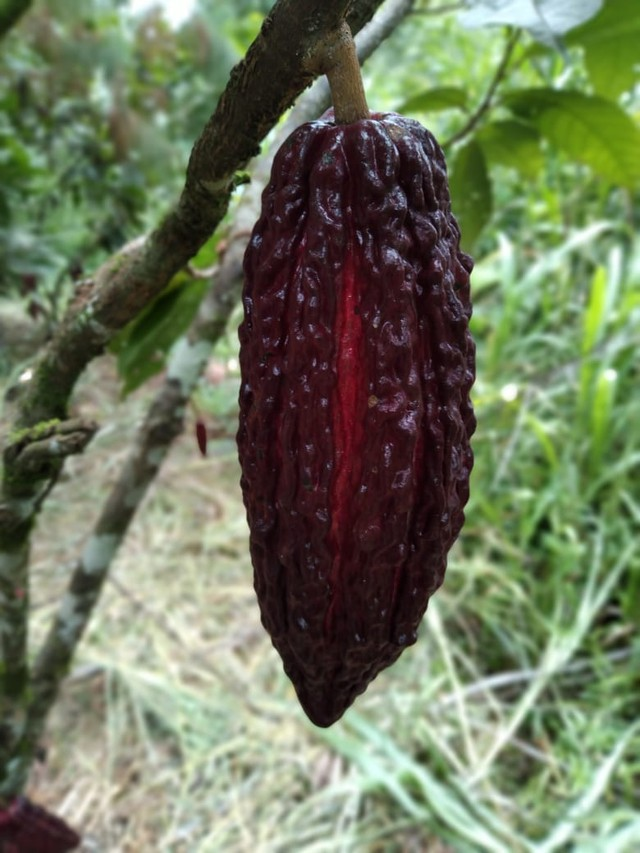Health: (234, 98, 482, 732)
